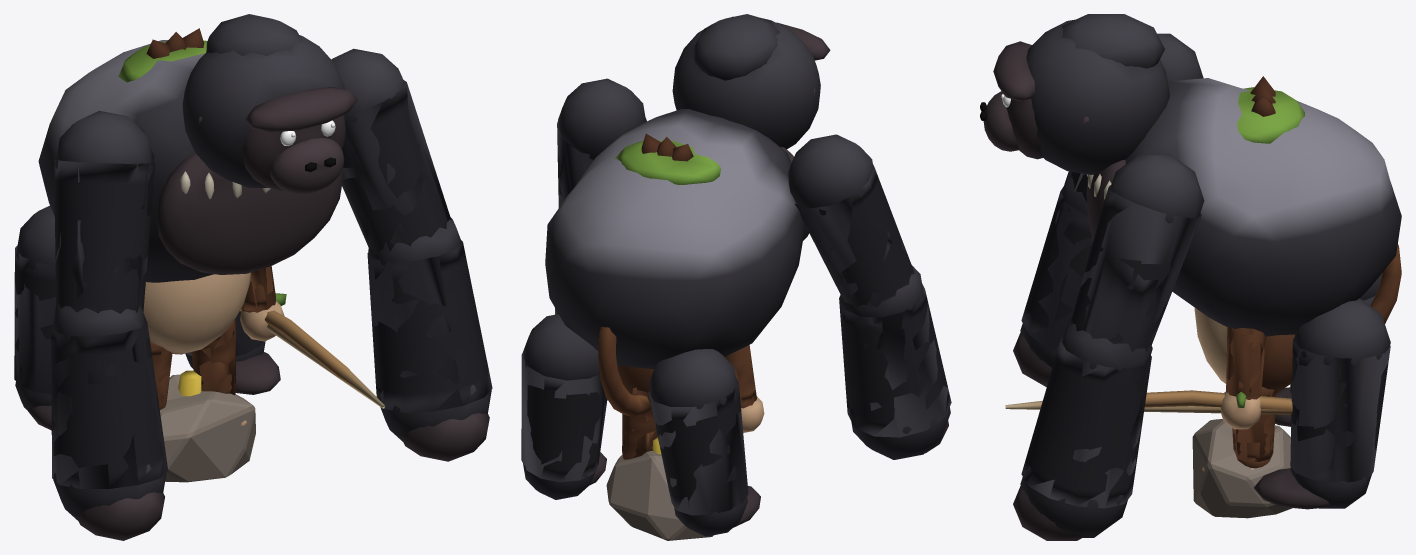
File: minions.glb
3 renders of one model, left to right at view 1: azimuth 30°, elevation 25°; view 2: azimuth 150°, elevation 25°; view 3: azimuth 270°, elevation 25°, orthographic. The views are drawn at different scales.
Visible parts, largest first — view 1: gorilla_armL, gorilla_armR, gorilla_body, gorilla_head, gorilla_legL, proj_rock, monkey_body, monkey_tool, gorilla_legR, monkey_legR, monkey_armR, monkey_acc0 (+2 smaller); view 2: gorilla_body, gorilla_armL, gorilla_legL, gorilla_head, gorilla_legR, gorilla_armR, proj_rock, monkey_acc0, monkey_tail, monkey_armL, monkey_legR, monkey_head (+1 smaller); view 3: gorilla_body, gorilla_armR, gorilla_head, gorilla_legR, gorilla_armL, proj_rock, monkey_armR, monkey_body, monkey_tool, monkey_acc0, monkey_legR, monkey_tail (+2 smaller).
Part boxes in pixels (left/top/right/bottom): gorilla_armL: left=51, top=110, right=168, bottom=540; gorilla_armR: left=331, top=48, right=492, bottom=461; gorilla_body: left=38, top=40, right=342, bottom=282; gorilla_head: left=182, top=14, right=357, bottom=194; gorilla_legL: left=14, top=205, right=55, bottom=430; proj_rock: left=160, top=374, right=255, bottom=482; monkey_body: left=143, top=272, right=250, bottom=354; monkey_tool: left=240, top=293, right=385, bottom=408; gorilla_legR: left=185, top=311, right=280, bottom=394; monkey_legR: left=191, top=320, right=246, bottom=425; monkey_armR: left=240, top=266, right=284, bottom=341; monkey_acc0: left=118, top=40, right=207, bottom=82; gorilla_body: left=545, top=109, right=809, bottom=369; gorilla_armL: left=788, top=134, right=951, bottom=459; gorilla_legL: left=648, top=349, right=760, bottom=536; gorilla_head: left=672, top=14, right=830, bottom=149; gorilla_legR: left=521, top=314, right=607, bottom=499; gorilla_armR: left=555, top=78, right=646, bottom=314; proj_rock: left=606, top=451, right=713, bottom=540; monkey_acc0: left=615, top=140, right=720, bottom=184; monkey_tail: left=598, top=327, right=651, bottom=417; monkey_armL: left=725, top=345, right=764, bottom=432; monkey_legR: left=622, top=414, right=657, bottom=459; monkey_head: left=641, top=133, right=693, bottom=161; gorilla_body: left=1086, top=78, right=1401, bottom=336; gorilla_armR: left=1013, top=154, right=1204, bottom=540; gorilla_head: left=980, top=14, right=1169, bottom=174; gorilla_legR: left=1254, top=298, right=1390, bottom=509; gorilla_armL: left=1013, top=33, right=1203, bottom=387; proj_rock: left=1192, top=419, right=1292, bottom=518; monkey_armR: left=1221, top=326, right=1265, bottom=429; monkey_body: left=1194, top=308, right=1294, bottom=392; monkey_tool: left=1005, top=390, right=1292, bottom=414; monkey_acc0: left=1237, top=87, right=1304, bottom=143; monkey_legR: left=1202, top=387, right=1276, bottom=471; monkey_tail: left=1370, top=244, right=1401, bottom=323.
Bounding box in the file's own units: 0.9699 × 1.1 × 0.8591.
